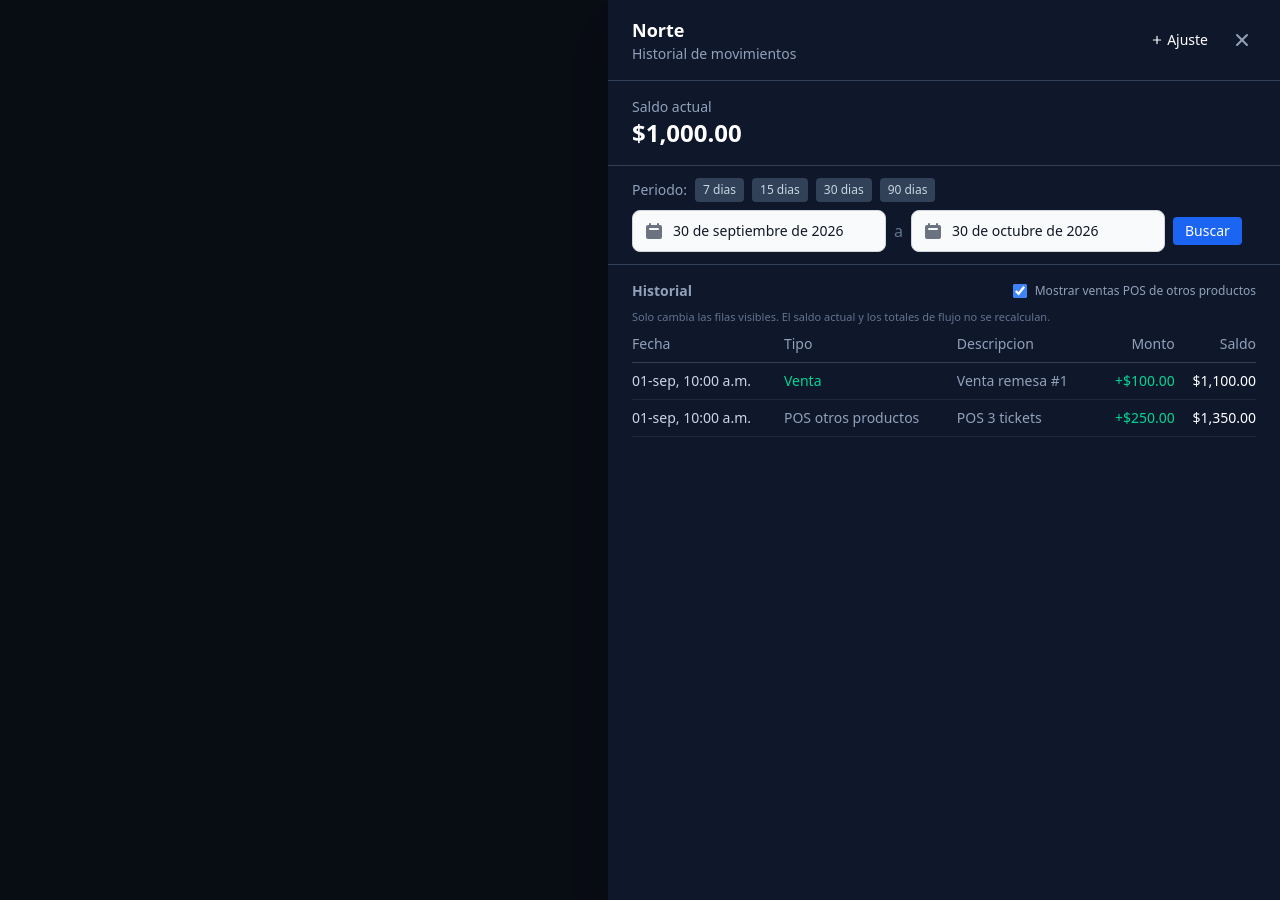
Test: GeneralCashDrawer POS filter › shows the alternate balance and filters POS rows when unchecked
Expected: the text "Venta remesa #1" is shown, left=957, top=362, right=1098, bottom=399
Expected: the text "POS 3 tickets" is shown, left=957, top=399, right=1098, bottom=436
Click the checkbox labelled "Mostrar ventas POS de otros productos": coordinates (1020, 291) left=1013, top=284, right=1027, bottom=298
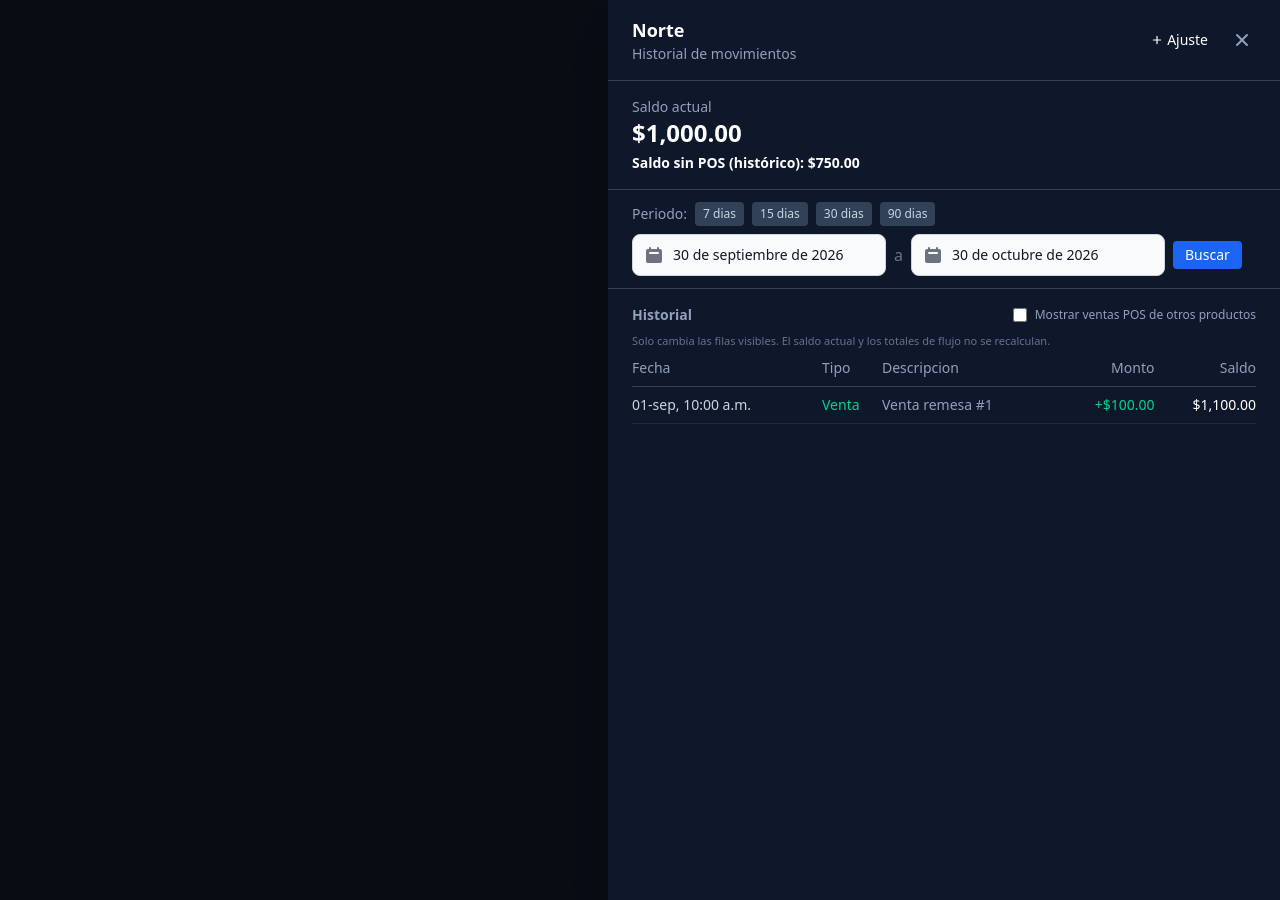
Expected: the text "Venta remesa #1" is shown, left=882, top=386, right=1059, bottom=423
Now the text "POS 3 tickets" is gone
Now the text "Saldo sin POS (histórico): $750.00" is shown, box left=632, top=153, right=860, bottom=172
